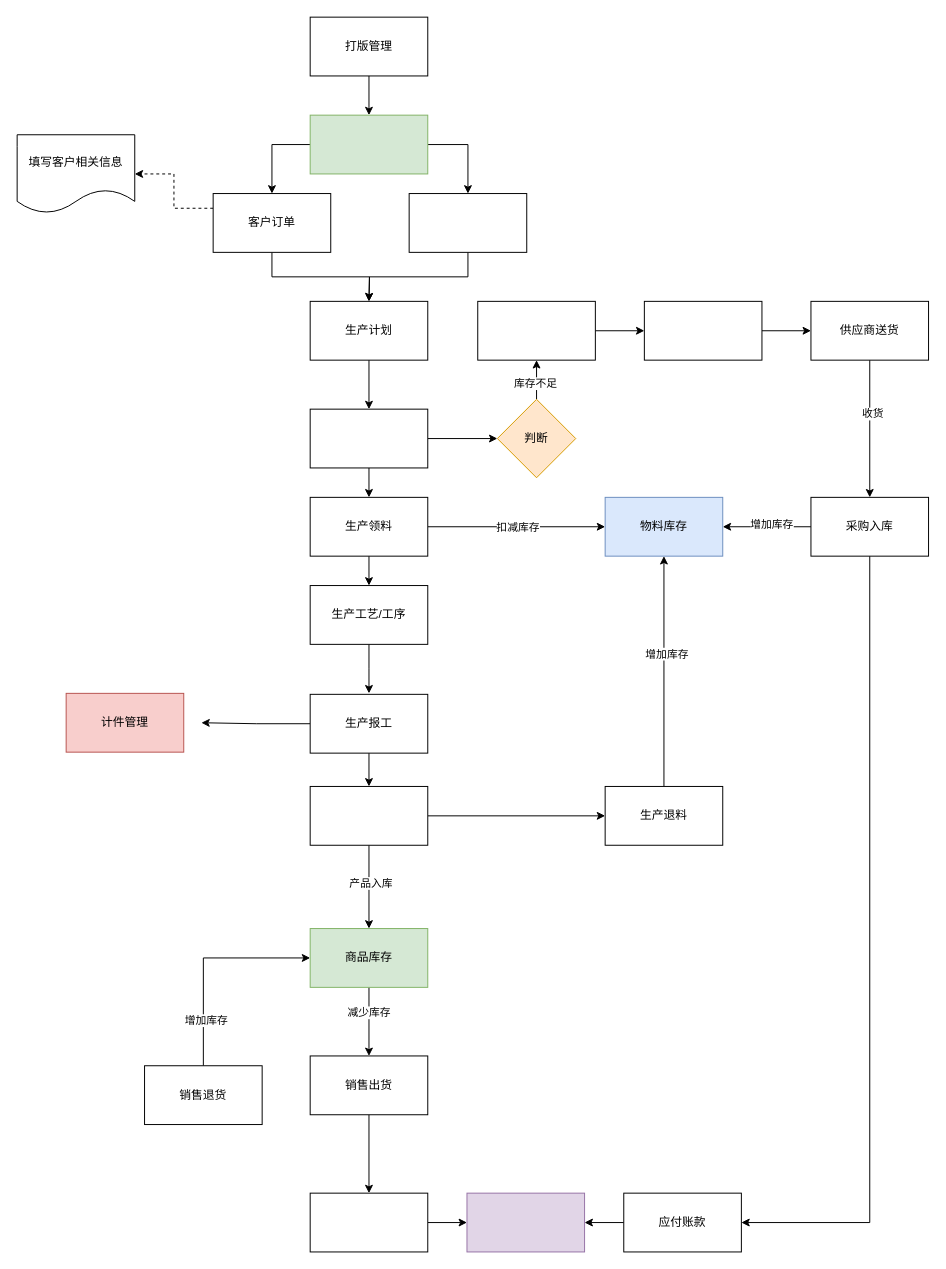
Some shapes in this 946 by 1269 pixel diagram are drawn without their labels. Each missing label, with the centre of its shape:
商品管理: pixel 368 144
库存备货: pixel 467 222
应收账款: pixel 368 1222
物料需求计划: pixel 368 438
生产完工: pixel 368 815
财务管理: pixel 525 1222
采购计划: pixel 536 330
采购订单: pixel 702 330
